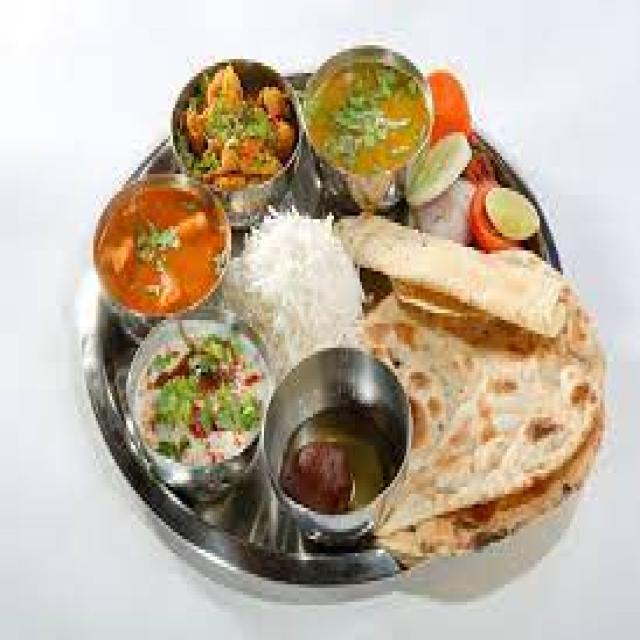dal: (127, 324, 262, 489), (98, 177, 232, 329), (306, 54, 426, 197)
rice: (239, 201, 367, 373)
sambar-rasam: (265, 349, 412, 531), (97, 175, 233, 327)
sweet: (264, 350, 415, 540)
veg-fry: (174, 48, 303, 218)
